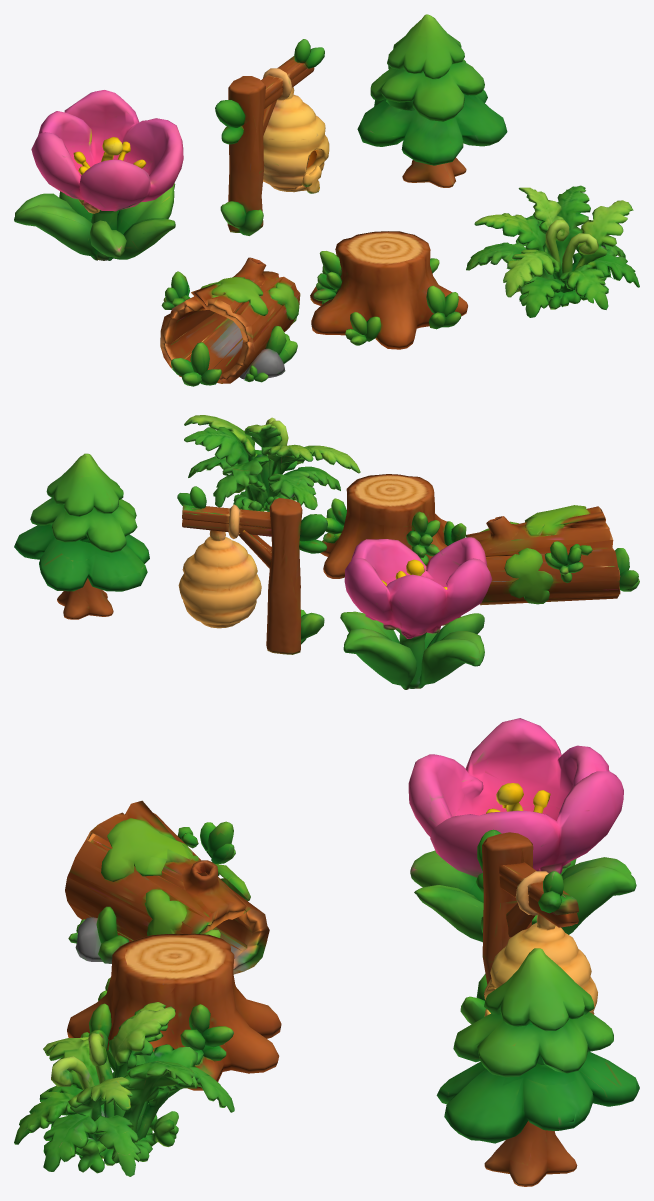
File: props_forest.glb
The picture shows the model from 3 angles, top to bottom: view 1: azimuth 30°, elevation 25°; view 2: azimuth 150°, elevation 25°; view 3: azimuth 270°, elevation 25°; orthographic projection. The views are drawn at different scales.
Size of the model in its own units: 0.9526 by 0.3105 by 0.8042.
1 material, 1 textured.
